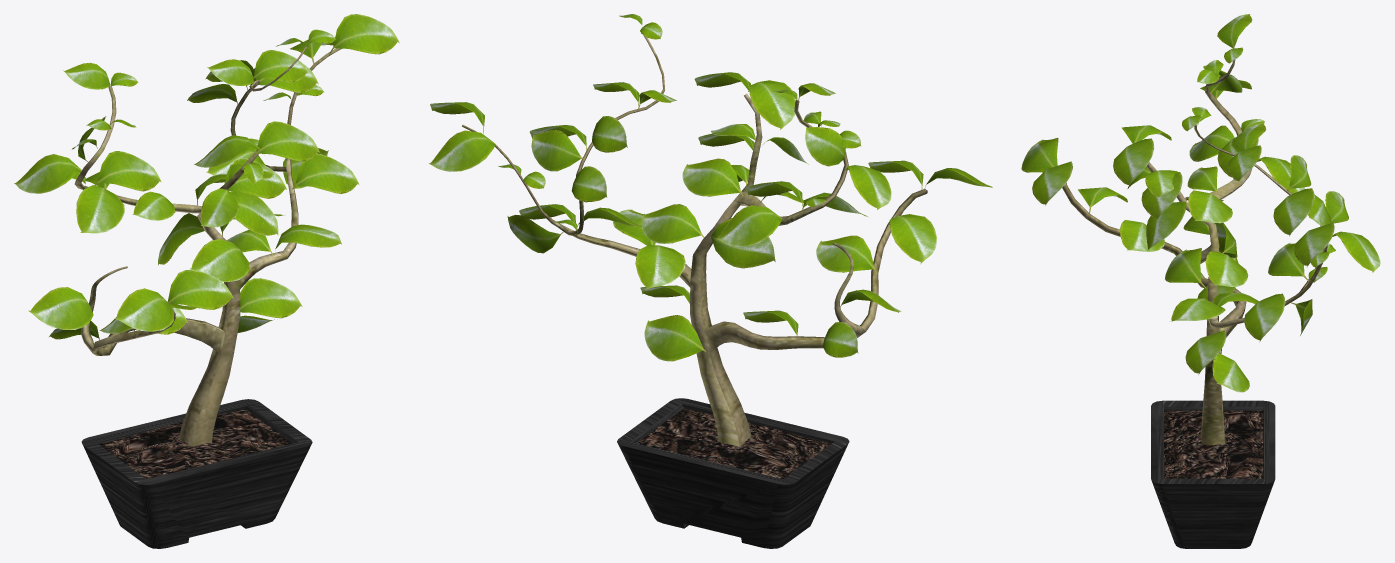
The model's file is bonsai.glb.
3 renders of one model, left to right at view 1: azimuth 30°, elevation 25°; view 2: azimuth 150°, elevation 25°; view 3: azimuth 270°, elevation 25°, orthographic. The views are drawn at different scales.
Visible parts, largest first — view 1: pCube7, pCube1, pCube8, pPlane35, pPlane8, pPlane16, pPlane45, pPlane56, pPlane15, pPlane26, pPlane29, pPlane14 (+15 smaller); view 2: pCube7, pCube1, pCube8, pPlane46, pPlane52, pPlane32, pPlane30, pPlane7, pPlane23, pPlane47, pPlane38, pPlane5 (+8 smaller); view 3: pCube7, pCube8, pCube1, pPlane36, pPlane43, pPlane14, pPlane32, pPlane7, pPlane29, pPlane44, pPlane45, pPlane8 (+21 smaller).
Boxes of the visible parts, x1,y1,x2,y2 form: pCube7: (81,399,312,548); pCube1: (74,46,341,446); pCube8: (99,408,292,478); pPlane35: (28,287,93,329); pPlane8: (329,14,399,54); pPlane16: (167,270,233,309); pPlane45: (240,278,302,318); pPlane56: (76,185,124,233); pPlane15: (114,288,173,331); pPlane26: (95,151,161,191); pPlane29: (189,238,248,282); pPlane14: (253,121,319,161); pCube7: (617,398,849,548); pCube1: (462,35,927,446); pCube8: (636,408,831,479); pPlane46: (644,315,705,361); pPlane52: (715,205,782,246); pPlane32: (641,204,704,243); pPlane30: (429,130,495,171); pPlane7: (682,158,743,196); pPlane23: (635,245,685,289); pPlane47: (889,214,936,263); pPlane38: (816,235,877,273); pPlane5: (748,80,795,129); pCube7: (1151,400,1275,548); pCube8: (1164,410,1263,478); pCube1: (1062,60,1327,445); pPlane36: (1244,293,1285,341); pPlane43: (1273,188,1314,236); pPlane14: (1113,138,1154,186); pPlane32: (1205,251,1248,286); pPlane7: (1188,190,1232,223); pPlane29: (1165,248,1206,288); pPlane44: (1146,201,1186,250); pPlane45: (1185,330,1226,374); pPlane8: (1294,222,1334,266).
Size of the model in its own units: 9.02 by 9.59 by 6.86.
4 materials, 4 textured.
